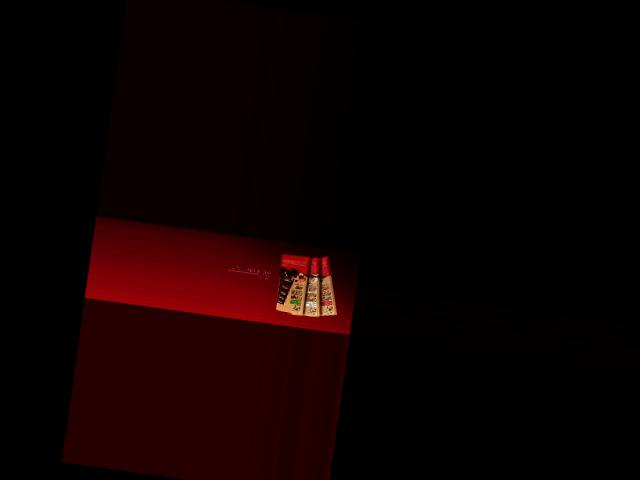chocolate: (305, 251, 345, 321)
